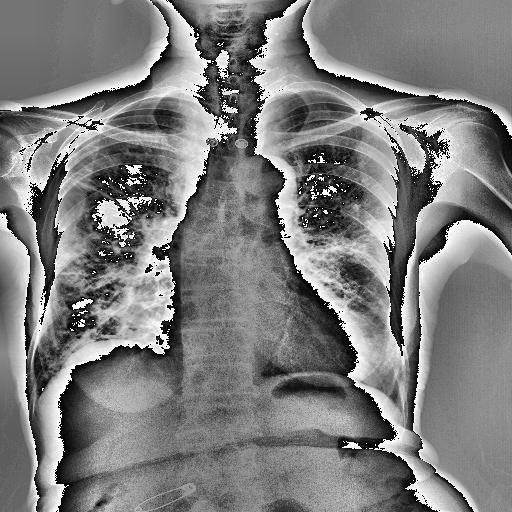0- Aortic enlargement: (236, 158, 298, 220), (238, 156, 296, 204), (241, 152, 295, 194)
13- Pulmonary fibrosis: (37, 232, 169, 378), (49, 214, 163, 348), (304, 216, 391, 315), (299, 220, 390, 306), (64, 138, 138, 222), (68, 135, 132, 204), (66, 172, 132, 220)
3- Cardiomegaly: (154, 302, 372, 384)
5- ILD: (34, 135, 184, 370), (293, 195, 400, 370), (49, 214, 163, 348), (304, 216, 391, 315)
9- Other lesion: (49, 214, 163, 348), (304, 216, 391, 315)
